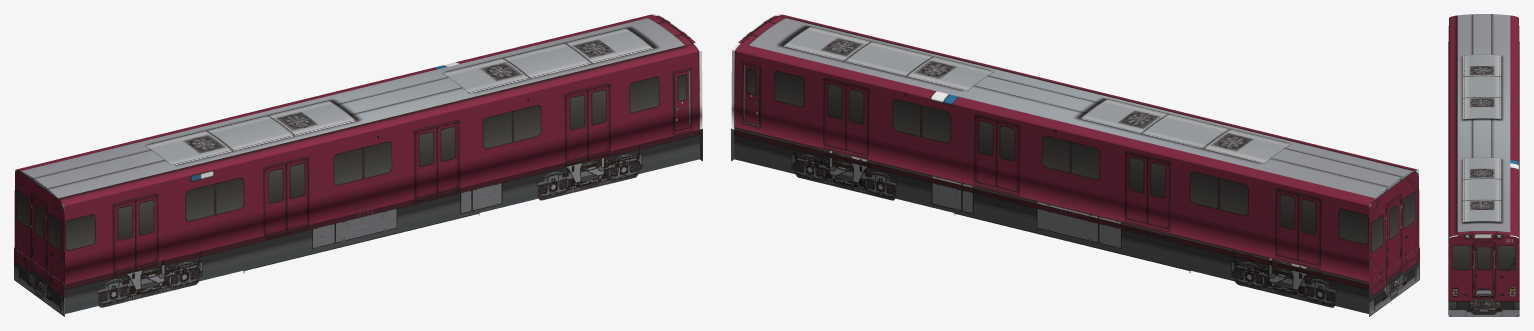
The model's file is car3.glb.
3 renders of one model, left to right at view 1: azimuth 30°, elevation 25°; view 2: azimuth 150°, elevation 25°; view 3: azimuth 270°, elevation 25°, orthographic. The views are drawn at different scales.
Visible parts, largest first — view 1: car3; view 2: car3; view 3: car3.
Boxes of the visible parts, <box> form: car3: <box>14,14,702,316</box>; car3: <box>731,14,1419,316</box>; car3: <box>1448,14,1519,316</box>.
Bounding box in the file's own units: 20.03 × 3.47 × 2.74.
Materials: 9 (8 with a texture image).
